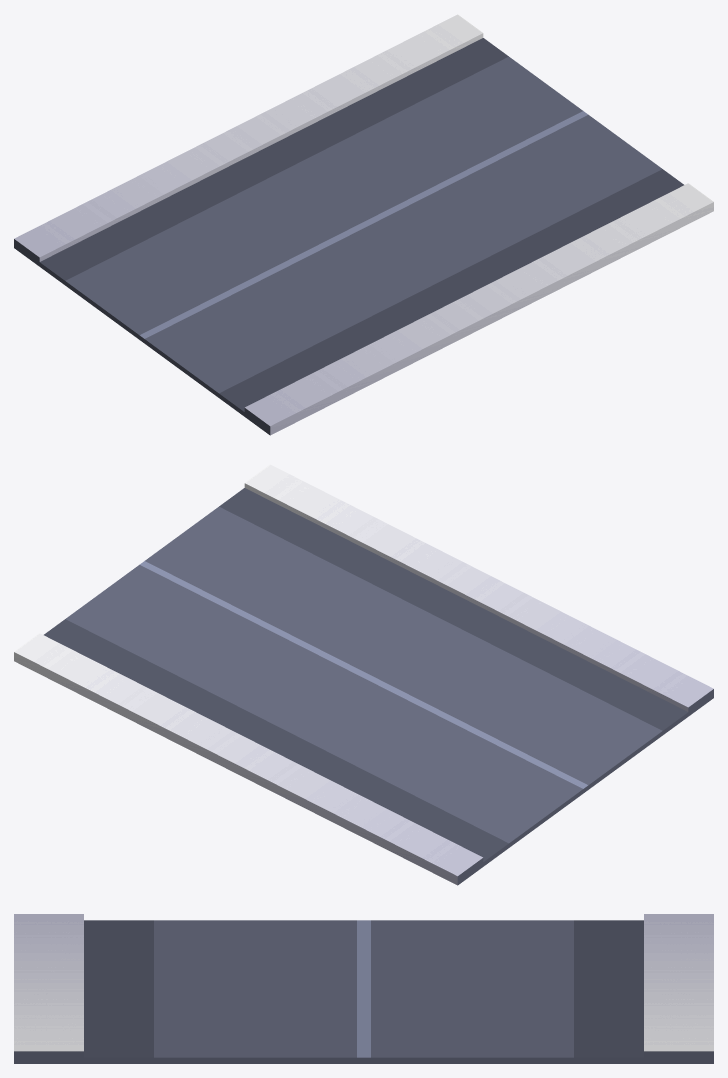
The model's file is road-slant-flat.glb.
3 renders of one model, top to bottom at view 1: azimuth 30°, elevation 25°; view 2: azimuth 150°, elevation 25°; view 3: azimuth 270°, elevation 25°, orthographic. The views are drawn at different scales.
Visible parts, largest first — view 1: road-slant-flat; view 2: road-slant-flat; view 3: road-slant-flat.
Part boxes in pixels (x1=…): road-slant-flat: x1=14, y1=14, x2=713, y2=435; road-slant-flat: x1=14, y1=464, x2=713, y2=885; road-slant-flat: x1=14, y1=914, x2=713, y2=1063.
Size of the model in its own units: 1 by 0.27 by 1.
1 material, 1 textured.
